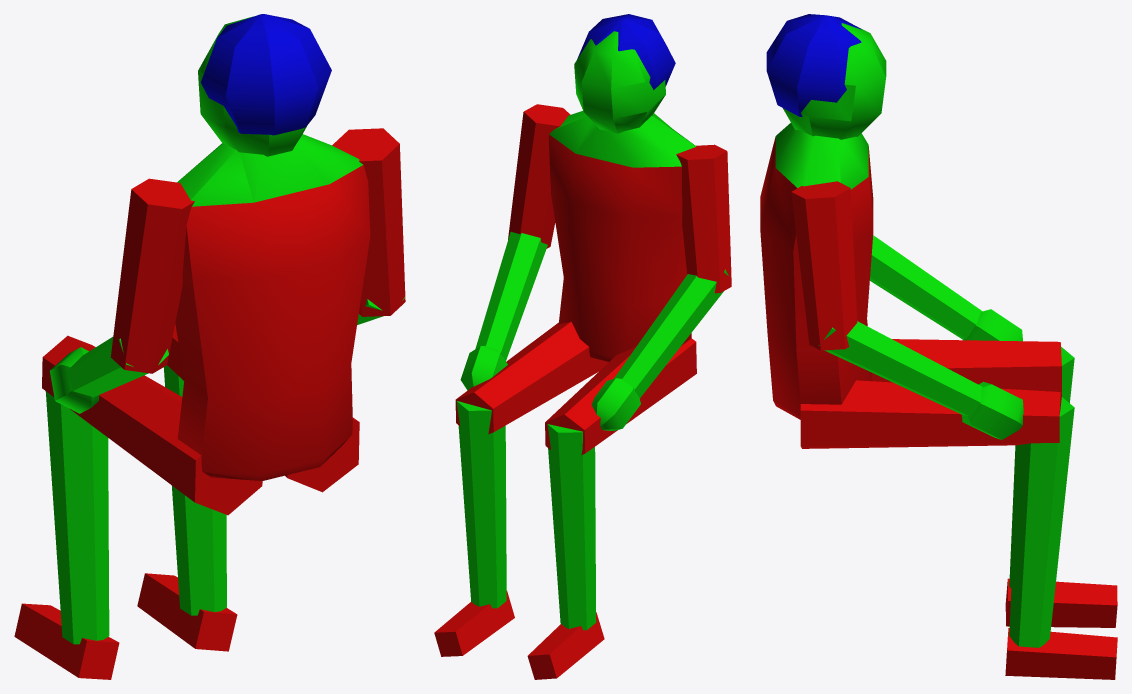
File: sit_idle.glb
The picture shows the model from 3 angles, left to right: view 1: azimuth 30°, elevation 25°; view 2: azimuth 150°, elevation 25°; view 3: azimuth 270°, elevation 25°; orthographic projection. The views are drawn at different scales.
Visible parts, largest first — view 1: OUT; view 2: OUT; view 3: OUT.
Part boxes in pixels (box(x1,y1,x2,y2)): OUT: box(14, 14, 405, 679); OUT: box(434, 14, 731, 679); OUT: box(760, 14, 1117, 679).
Size of the model in its own units: 0.5256 by 1.31 by 0.6707.
